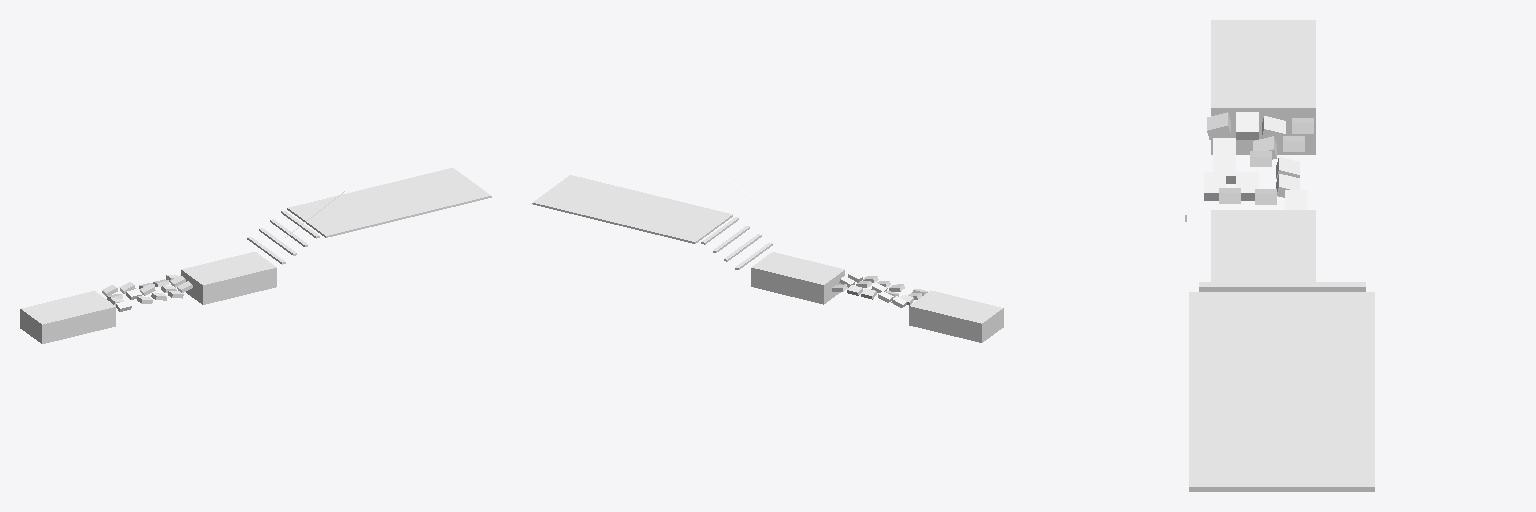
URDF robot description (race_0):
<robot name="race_0">
  <link name="base_link">
    <visual>
      <origin xyz="0 0 0" rpy="0 0 0" />
      <geometry>
        <mesh filename="package://hpp-rbprm-corba/meshes/race_0.stl"/>
      </geometry>
      <material name="white">
        <color rgba="1 1 1 1"/>
      </material>
    </visual>
    <collision>
      <origin xyz="0 0 0" rpy="0 0 0" />
      <geometry>
        <mesh filename="package://hpp-rbprm-corba/meshes/race_0.stl"/>
      </geometry>
    </collision>
  </link>
</robot>

--- What the picture shows (computed from the rendered views, not written in the file) ---
3 views of the same robot in one strip: view 1: azimuth 30°, elevation 25°; view 2: azimuth 150°, elevation 25°; view 3: azimuth 270°, elevation 25° (orthographic).
Robot: race_0 — 1 links, 0 joints (none); root link base_link; default pose: every joint at zero.
Links seen in each view (by area): view 1: base_link; view 2: base_link; view 3: base_link.
Boxes of the visible links, x1,y1,x2,y2 form: base_link: (20,168,491,343); base_link: (532,169,1003,342); base_link: (1185,20,1374,491).
Bounding box of the posed robot: 11.78 × 1.81 × 2.14 m (x, y, z).
1 mesh visuals loaded from 1 distinct referenced files (1 binary STL).